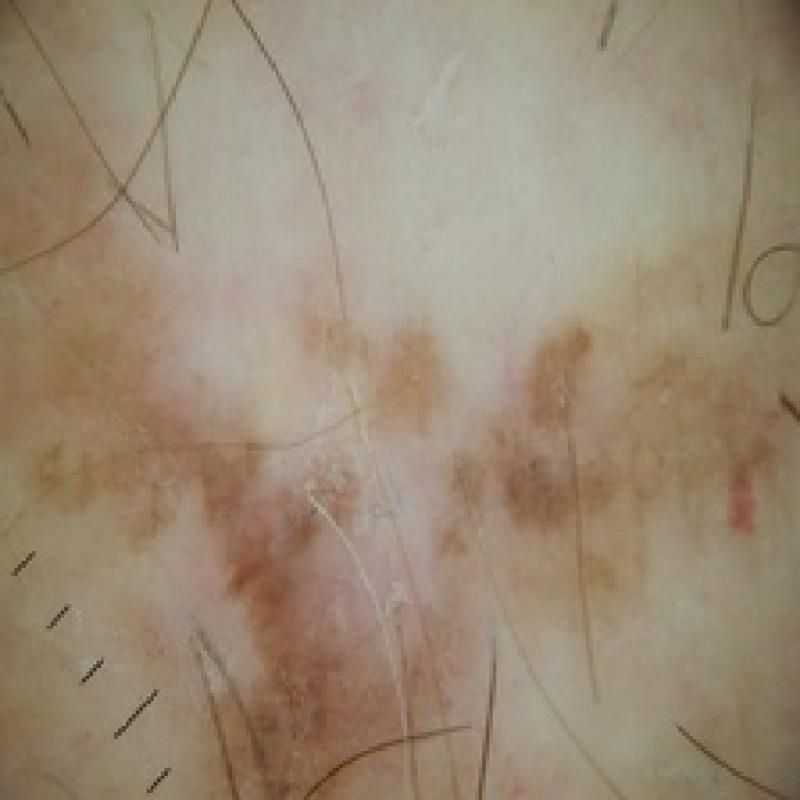malignant: (28, 205, 800, 776)
